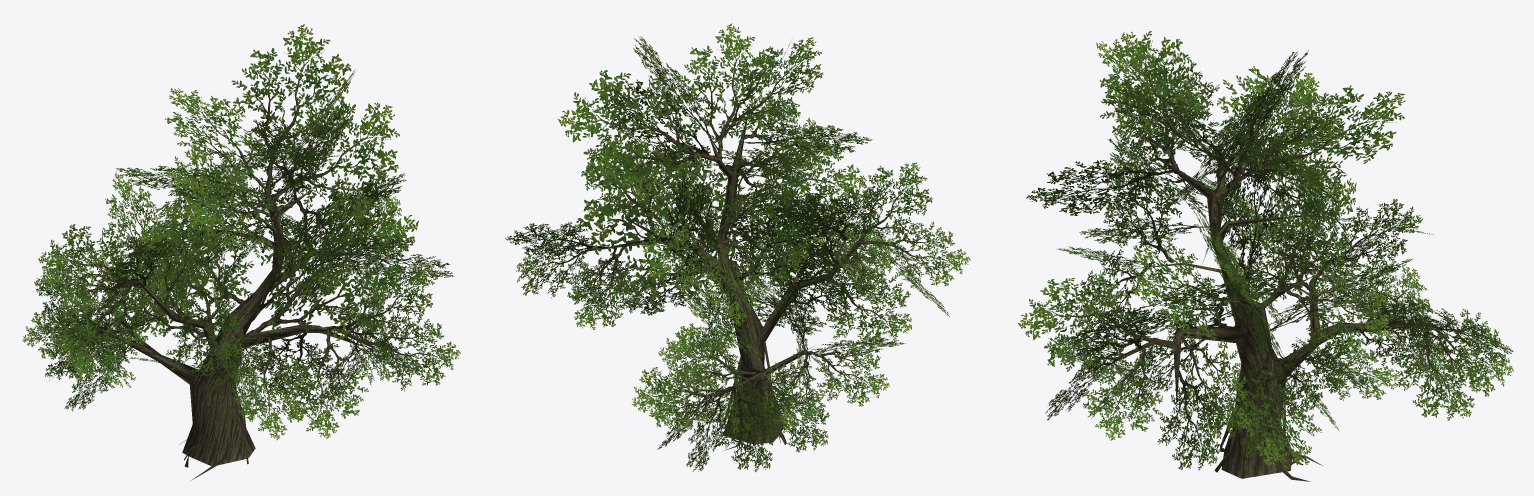
File: Utility_Tree07_LOD2.FBX
3 views of the same model, side by side, from view 1: azimuth 30°, elevation 25°; view 2: azimuth 150°, elevation 25°; view 3: azimuth 270°, elevation 25° (orthographic). The views are drawn at different scales.
Parts seen in each view (by area): view 1: cmc_shu07_02_LOD2, cmc_shu07_01_LOD2; view 2: cmc_shu07_02_LOD2, cmc_shu07_01_LOD2; view 3: cmc_shu07_02_LOD2, cmc_shu07_01_LOD2.
Boxes of the visible parts, box(x1,y1,x2,y2) form: cmc_shu07_02_LOD2: box(22, 24, 460, 440); cmc_shu07_01_LOD2: box(83, 153, 375, 480); cmc_shu07_02_LOD2: box(505, 23, 970, 472); cmc_shu07_01_LOD2: box(586, 115, 892, 450); cmc_shu07_02_LOD2: box(1018, 31, 1513, 470); cmc_shu07_01_LOD2: box(1094, 139, 1452, 481).
Size of the model in its own units: 2431 by 2177 by 2058.
Materials: 2 (2 with a texture image).
